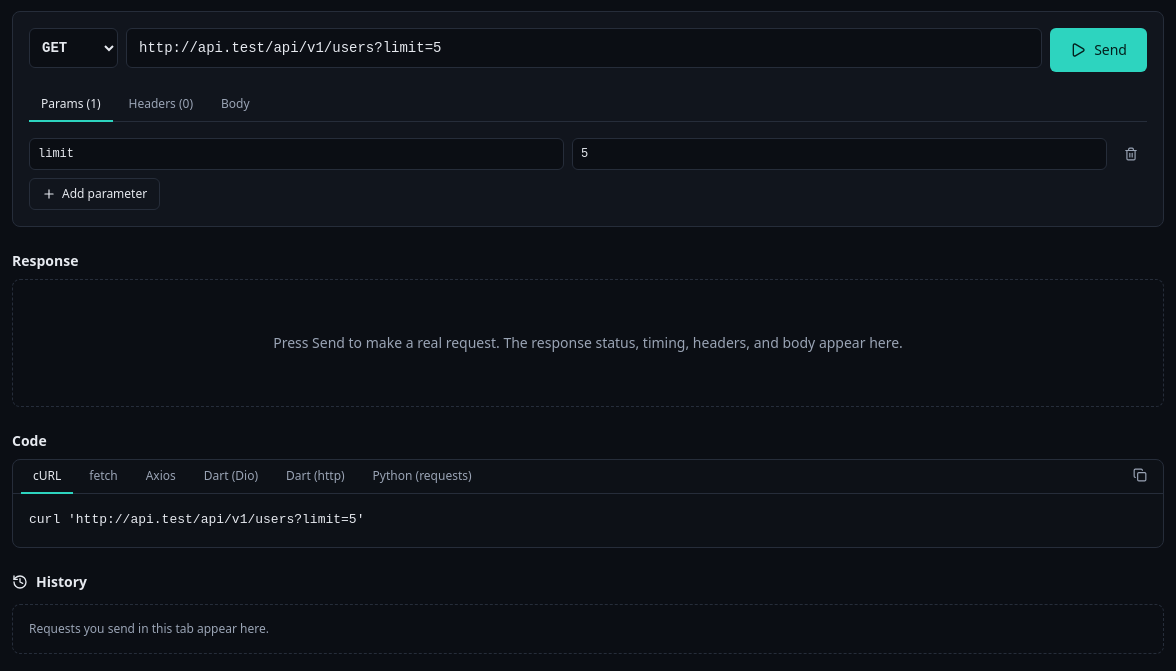
Test: Playground › sends a real request and shows status, body, and history
This screenshot has width=1176, height=671.
Click the button "Send" at [1099, 50], box [1050,28,1147,72]
(page scrolled)
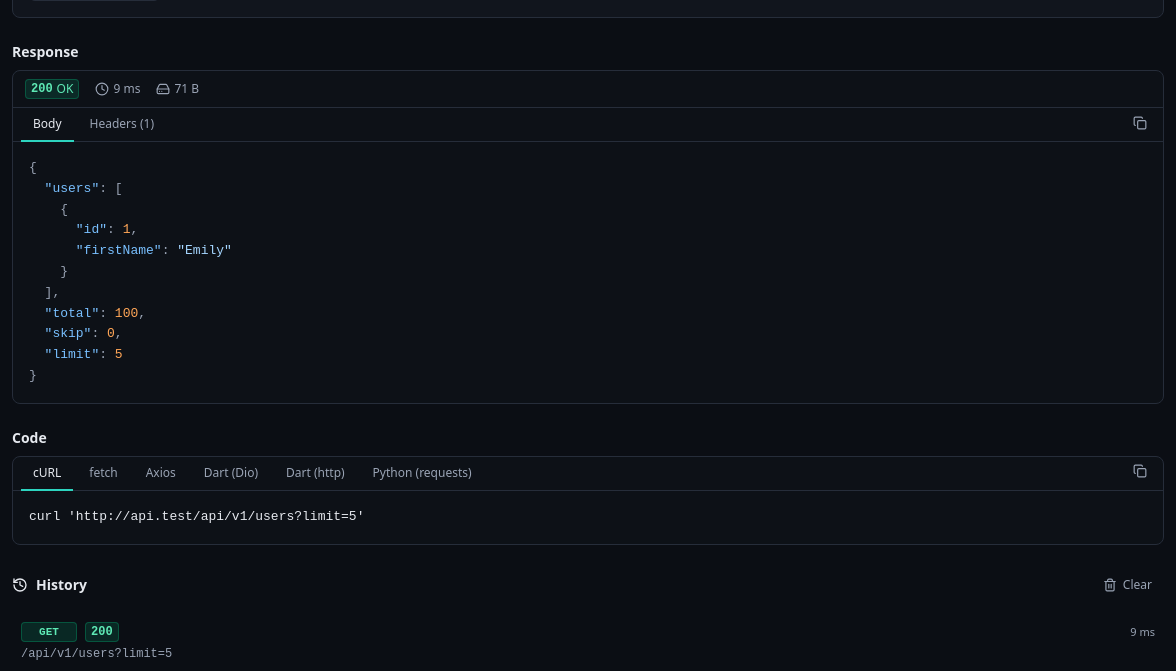
Result: the text "\"Emily\"" is shown at [177,243,232,258]
Result: the text "/api/v1/users?limit=5" is shown at [21,647,172,661]
Result: the text "200" is shown at [85,622,119,642]
